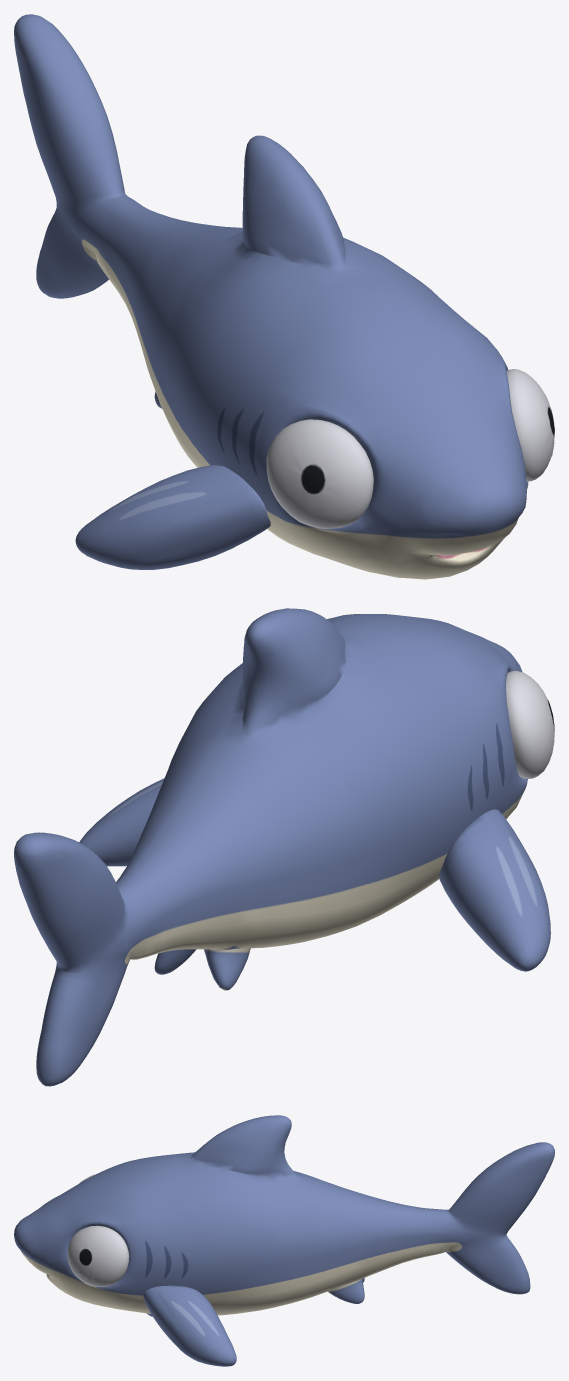
The model's file is cartoon_shark_colored.obj.
3 views of the same model, one above another, from view 1: azimuth 30°, elevation 25°; view 2: azimuth 150°, elevation 25°; view 3: azimuth 270°, elevation 25° (orthographic). The views are drawn at different scales.
Visible parts, largest first — view 1: Cartoon_Shark_Colored; view 2: Cartoon_Shark_Colored; view 3: Cartoon_Shark_Colored.
Boxes of the visible parts, <box> form: Cartoon_Shark_Colored: <box>14,14,554,579</box>; Cartoon_Shark_Colored: <box>14,608,554,1086</box>; Cartoon_Shark_Colored: <box>14,1115,554,1366</box>.
Size of the model in its own units: 0.563 by 0.4087 by 0.9995.
Materials: 1 (1 with a texture image).
